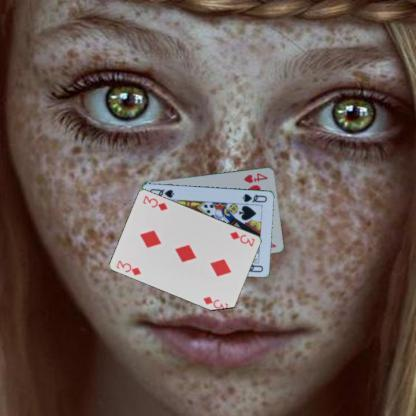3d: (228, 229, 257, 248), (114, 258, 143, 276)
4h: (242, 170, 270, 184)
Qs: (240, 192, 268, 204)
